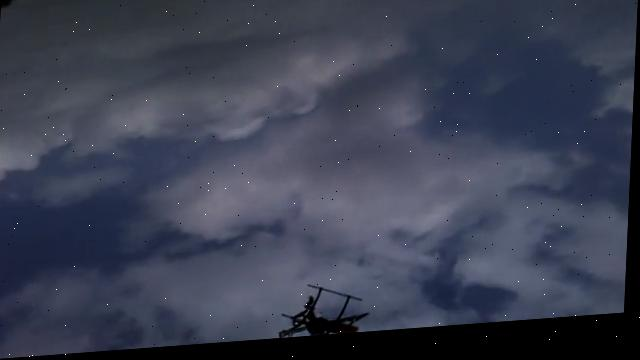drone: (281, 284, 375, 343)
